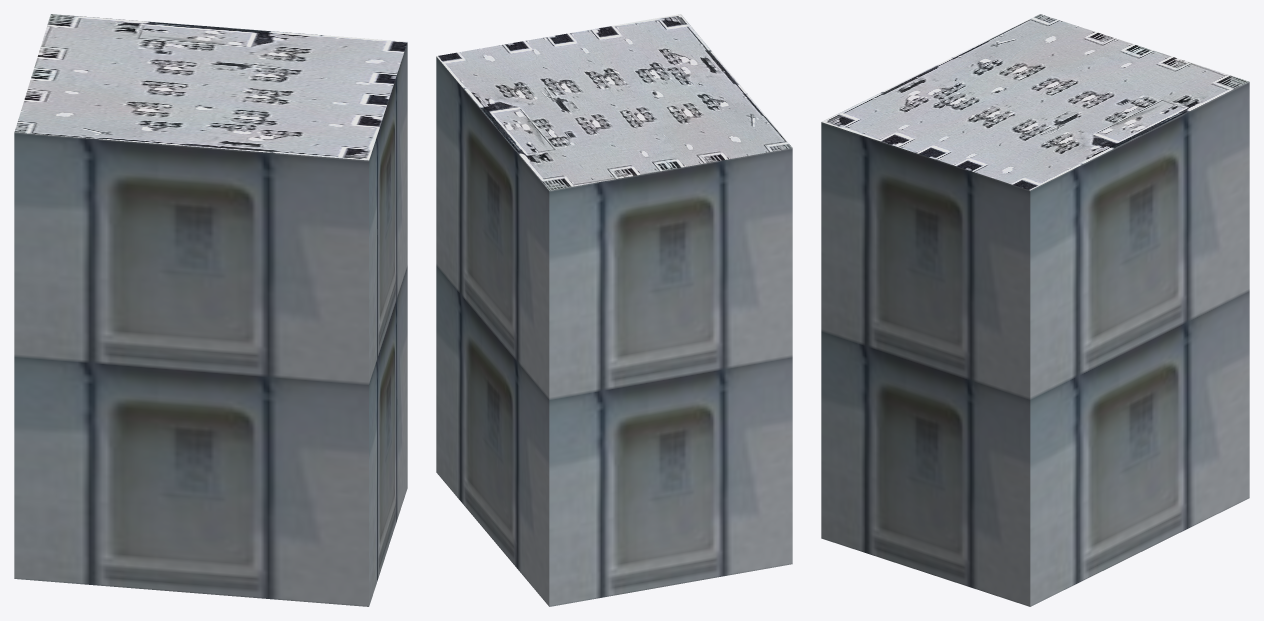
Rendered from ResTex__2199.fbx.
3 views of the same model, side by side, from view 1: azimuth 30°, elevation 25°; view 2: azimuth 150°, elevation 25°; view 3: azimuth 270°, elevation 25° (orthographic). The views are drawn at different scales.
Parts seen in each view (by area): view 1: CityEngineMaterial_17_m, CityEngineMaterial_2_m; view 2: CityEngineMaterial_17_m, CityEngineMaterial_2_m; view 3: CityEngineMaterial_17_m, CityEngineMaterial_2_m.
Boxes of the visible parts, <box> form: CityEngineMaterial_17_m: <box>14,42,407,606</box>; CityEngineMaterial_2_m: <box>14,14,407,160</box>; CityEngineMaterial_17_m: <box>436,56,792,606</box>; CityEngineMaterial_2_m: <box>436,14,792,190</box>; CityEngineMaterial_17_m: <box>821,82,1249,606</box>; CityEngineMaterial_2_m: <box>822,14,1249,190</box>.
Bounding box in the file's own units: 5.45 × 6 × 5.6.
2 materials, 2 textured.
